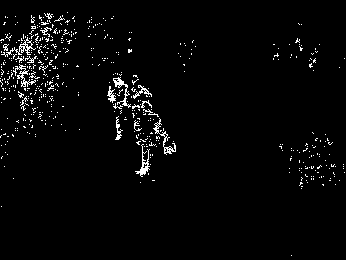person: (134, 100, 176, 179), (126, 73, 154, 131), (106, 72, 128, 140)
